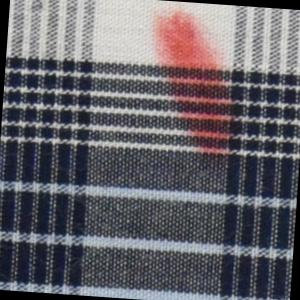Stain: (140, 5, 249, 169)
